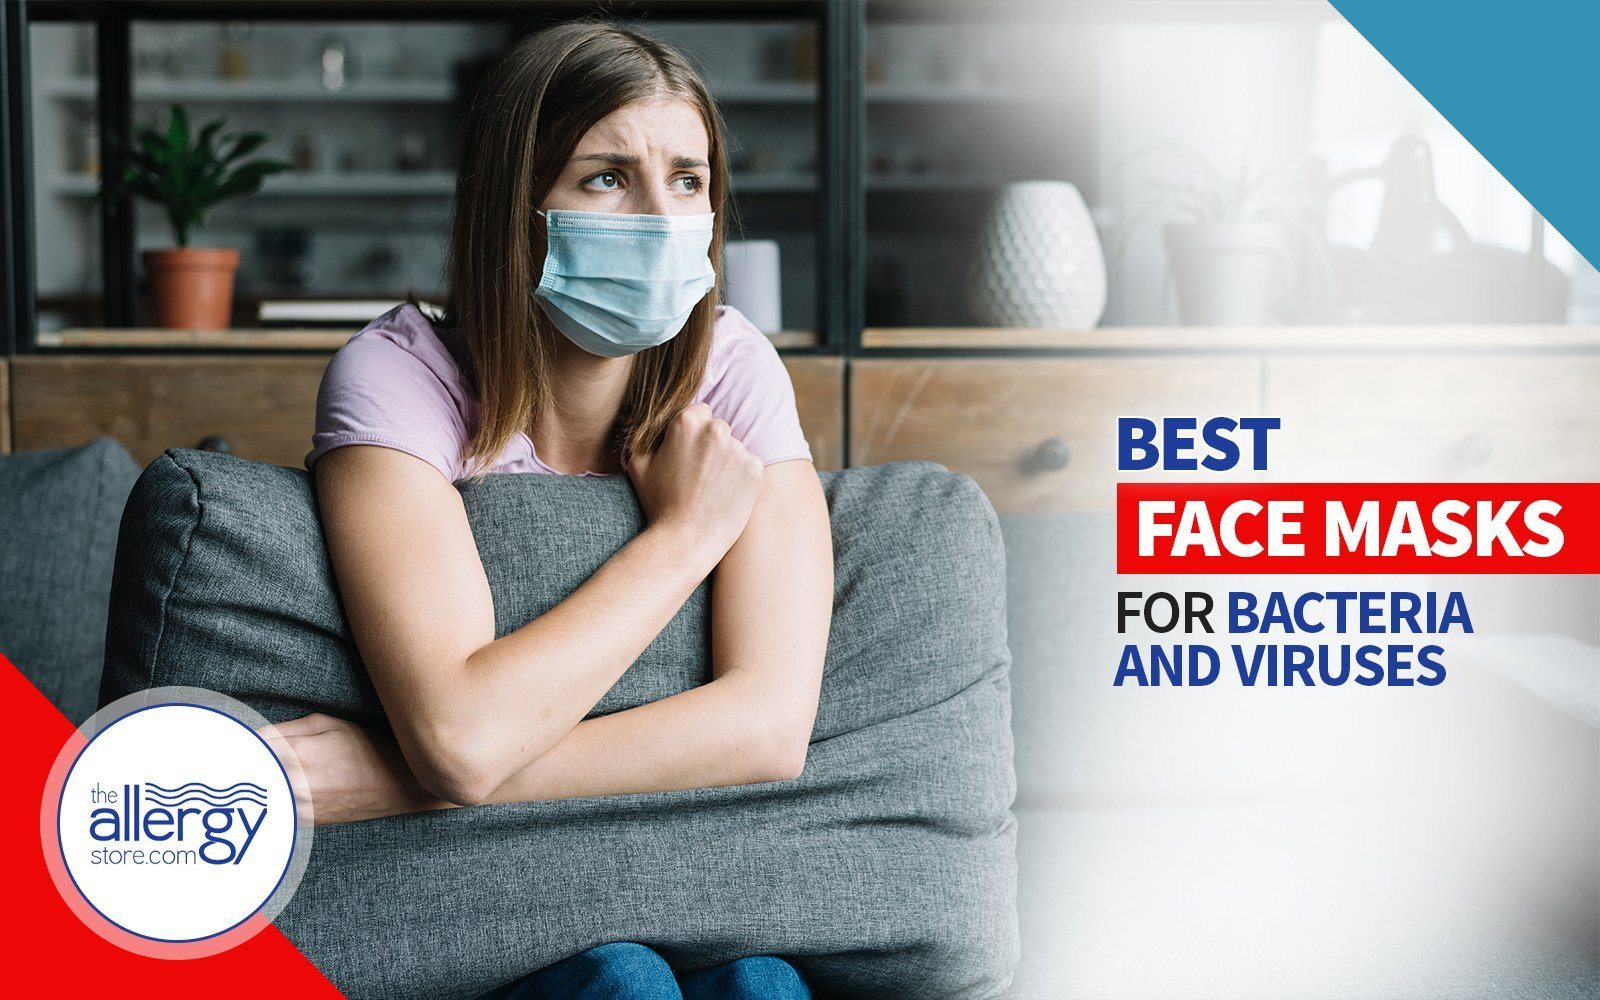surgical: (508, 194, 730, 362)
